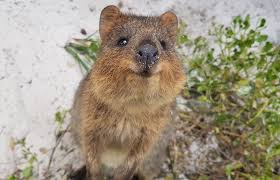quokka: (63, 6, 188, 180)
